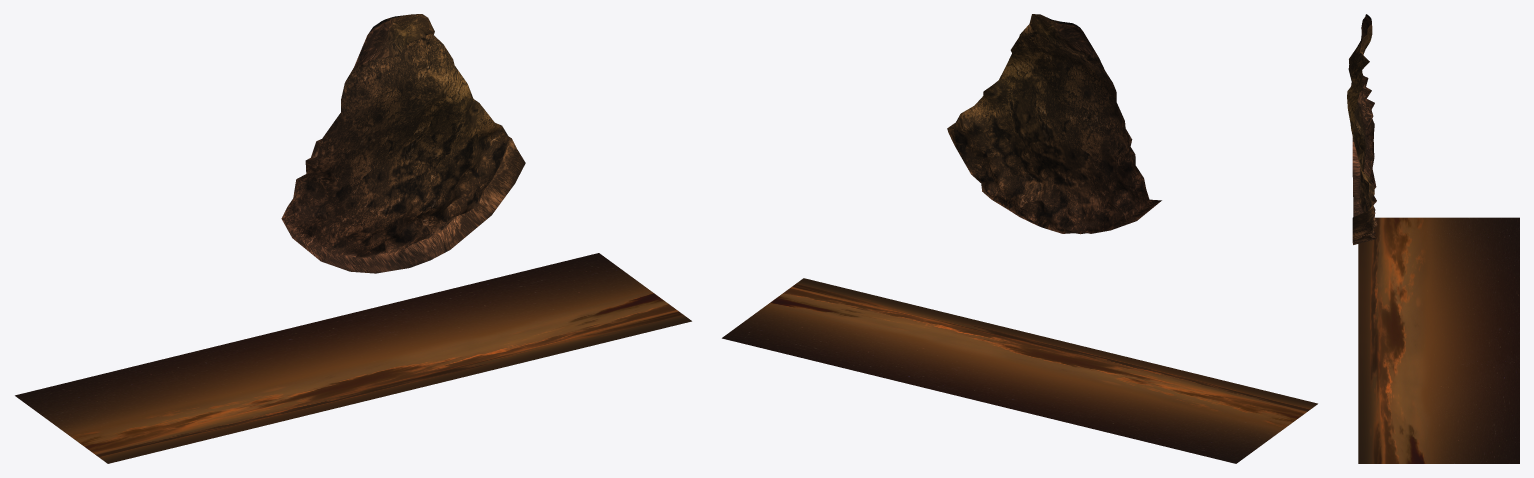
Rendered from terrain.fbx.
3 views of the same model, side by side, from view 1: azimuth 30°, elevation 25°; view 2: azimuth 150°, elevation 25°; view 3: azimuth 270°, elevation 25° (orthographic). The views are drawn at different scales.
Visible parts, largest first — view 1: terrain; view 2: terrain; view 3: terrain.
Boxes of the visible parts, bbox=[...] form: terrain: bbox=[15, 14, 691, 463]; terrain: bbox=[722, 14, 1317, 463]; terrain: bbox=[1347, 14, 1519, 463].
Bounding box in the file's own units: 42405 × 25655 × 12582.
Materials: 2 (2 with a texture image).
